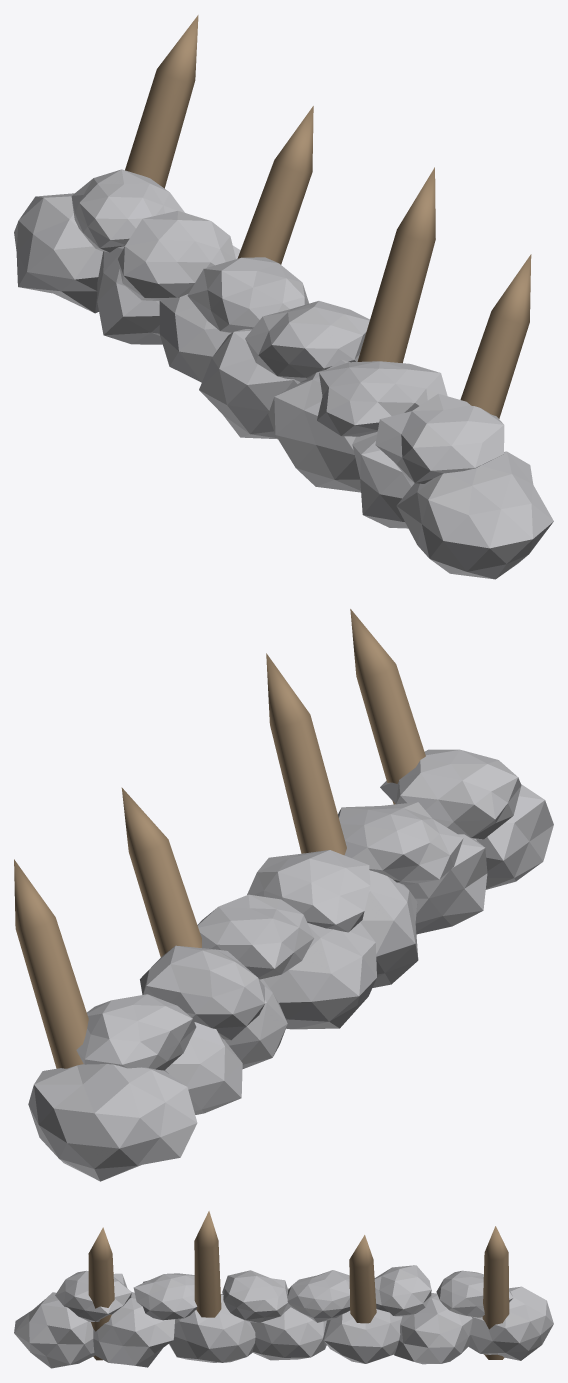
Rendered from village.wall.glb.
3 renders of one model, top to bottom at view 1: azimuth 30°, elevation 25°; view 2: azimuth 150°, elevation 25°; view 3: azimuth 270°, elevation 25°, orthographic. The views are drawn at different scales.
Visible parts, largest first — view 1: Stone, Wood; view 2: Stone, Wood; view 3: Stone, Wood.
Part boxes in pixels (left/top/right/bottom): Stone: left=14, top=169, right=553, bottom=579; Wood: left=125, top=15, right=531, bottom=418; Stone: left=28, top=749, right=553, bottom=1181; Wood: left=14, top=609, right=425, bottom=1068; Stone: left=14, top=1265, right=553, bottom=1368; Wood: left=88, top=1211, right=509, bottom=1360.
Size of the model in its own units: 0.6178 by 0.9864 by 2.69.
